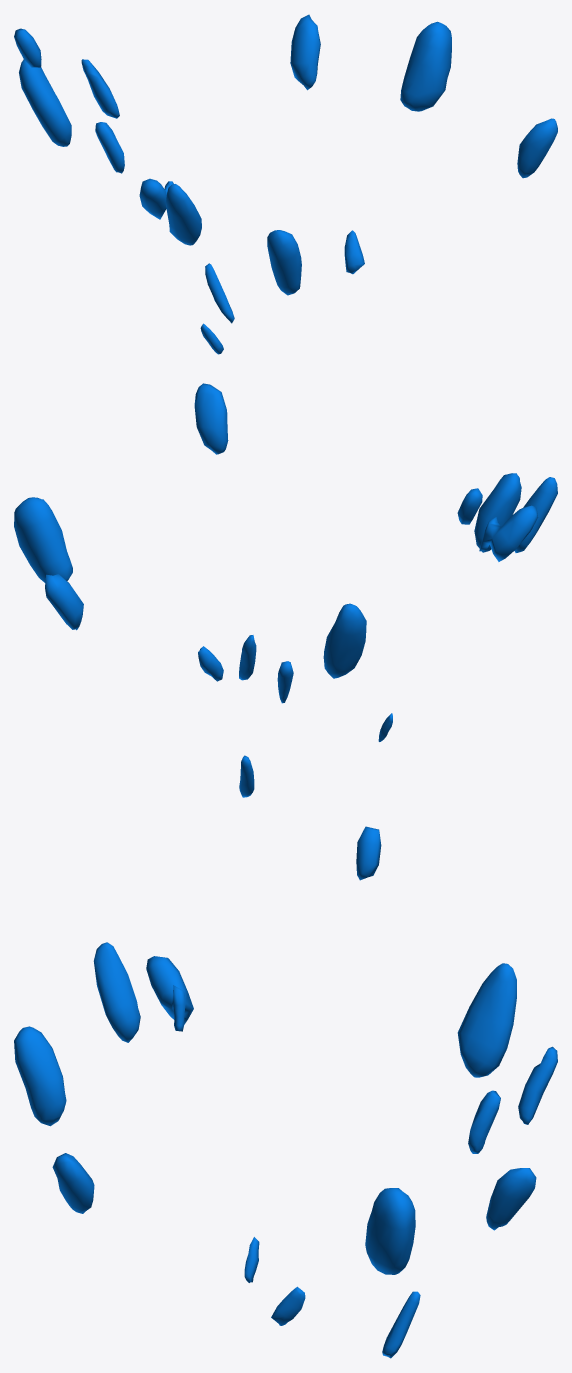
The model's file is Stone.fbx.
The picture shows the model from 3 angles, top to bottom: view 1: azimuth 30°, elevation 25°; view 2: azimuth 150°, elevation 25°; view 3: azimuth 270°, elevation 25°; orthographic projection. The views are drawn at different scales.
Visible parts, largest first — view 1: polySurface34; view 2: polySurface34; view 3: polySurface34.
Boxes of the visible parts, x1,y1,x2,y2 form: polySurface34: (14,14,557,354); polySurface34: (14,383,557,797); polySurface34: (14,826,557,1358).
Size of the model in its own units: 13279 by 9976 by 12087.
